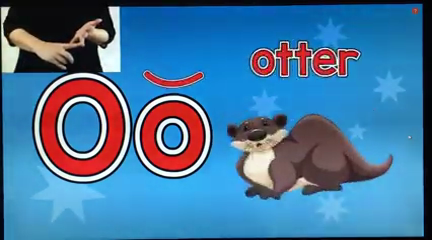O: (23, 14, 108, 72)
